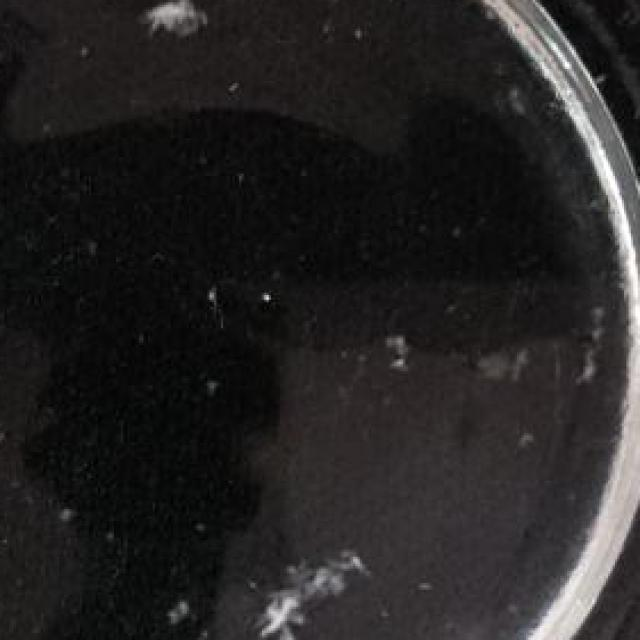Microplastic: (248, 547, 383, 640), (469, 328, 531, 400), (123, 0, 221, 40), (382, 309, 414, 388), (162, 583, 196, 635)
